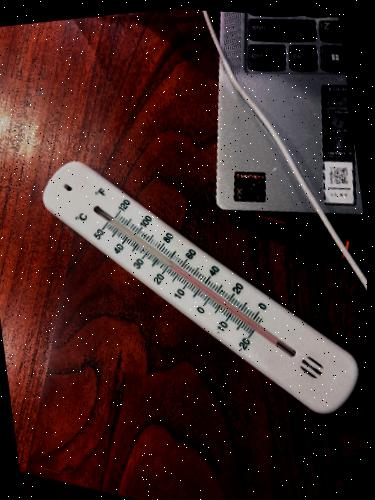thermo: (36, 146, 363, 418)
